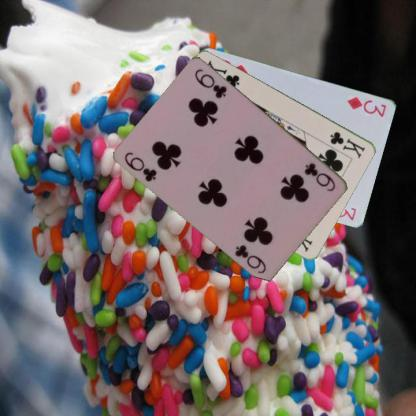3d: (345, 93, 388, 118)
6c: (302, 158, 338, 193), (122, 149, 159, 183)
Kc: (327, 128, 367, 160)
